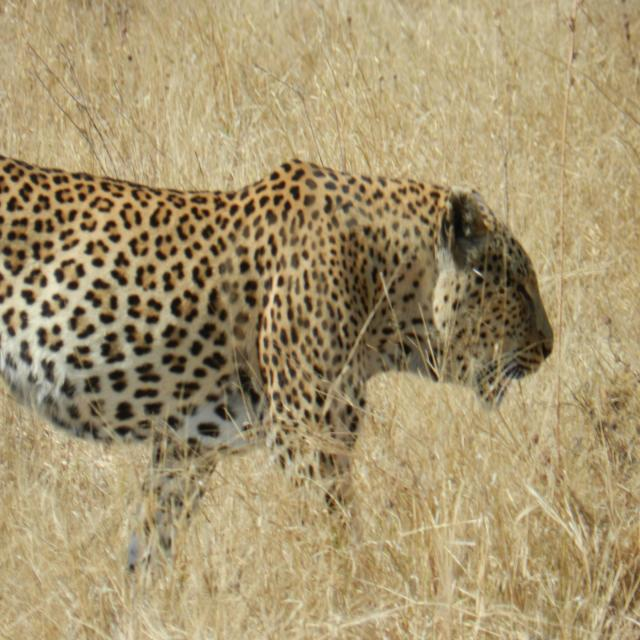Leopard: (0, 137, 565, 593)
